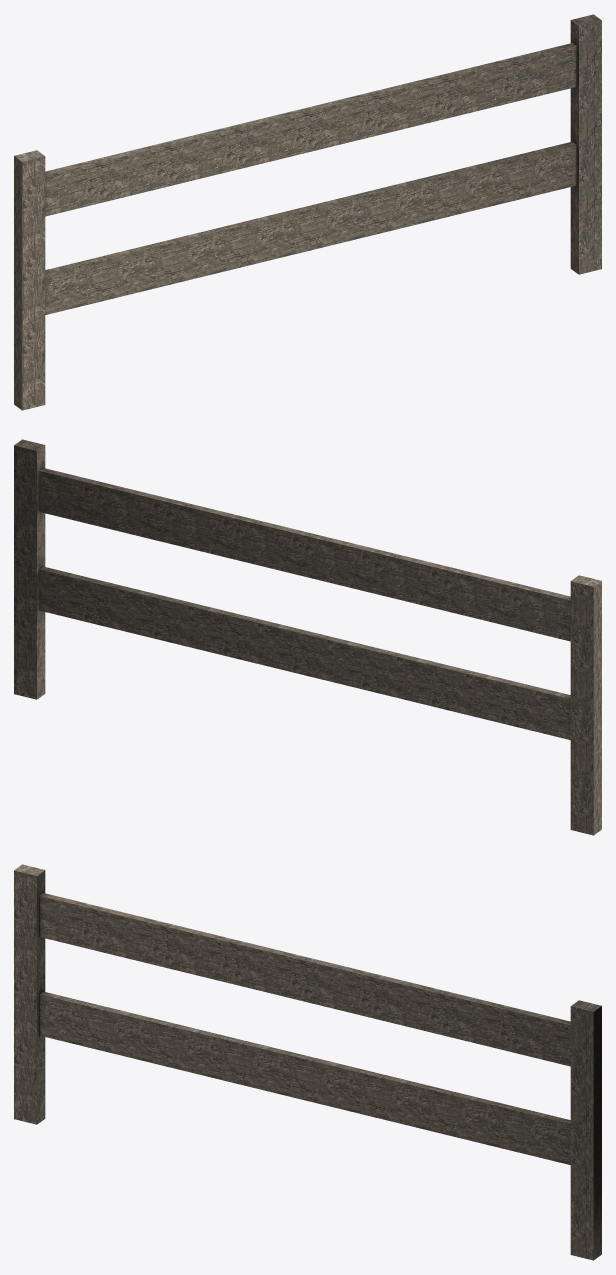
File: SM_FenceComplete.FBX
3 views of the same model, one above another, from view 1: azimuth 30°, elevation 25°; view 2: azimuth 150°, elevation 25°; view 3: azimuth 330°, elevation 25° (orthographic).
Parts seen in each view (by area): view 1: WoodFence; view 2: WoodFence; view 3: WoodFence.
Part boxes in pixels (x1,y1,x2,y2): WoodFence: [14, 14, 601, 410]; WoodFence: [14, 439, 601, 835]; WoodFence: [14, 864, 601, 1260].
Size of the model in its own units: 156 by 3.86 by 64.
